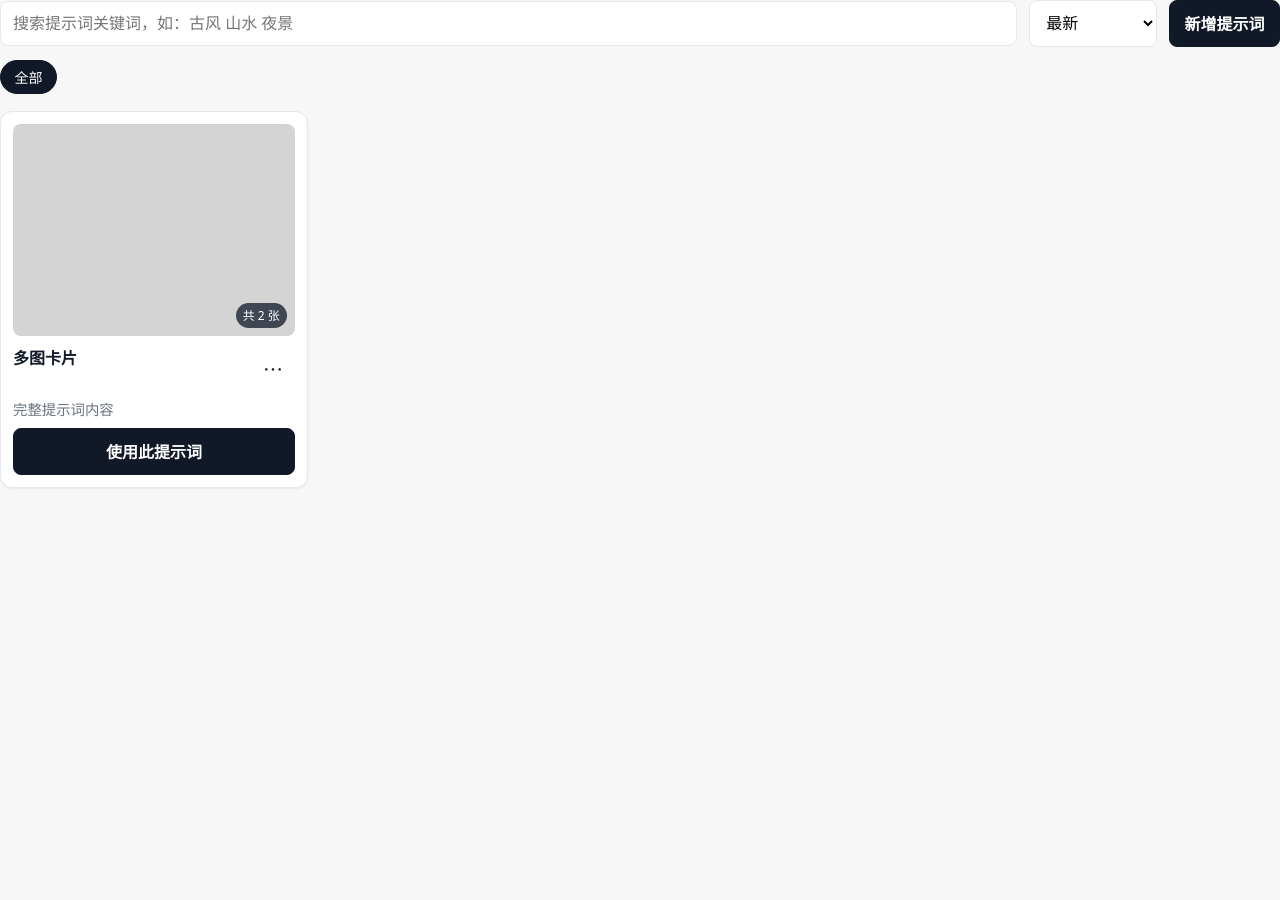
Test: 点击封面打开全屏大图预览
What coordinates should you click on to do the following:
click the button named "预览 多图卡片"
I would click on:
 (154, 230)
Its box is [13,124,295,336].
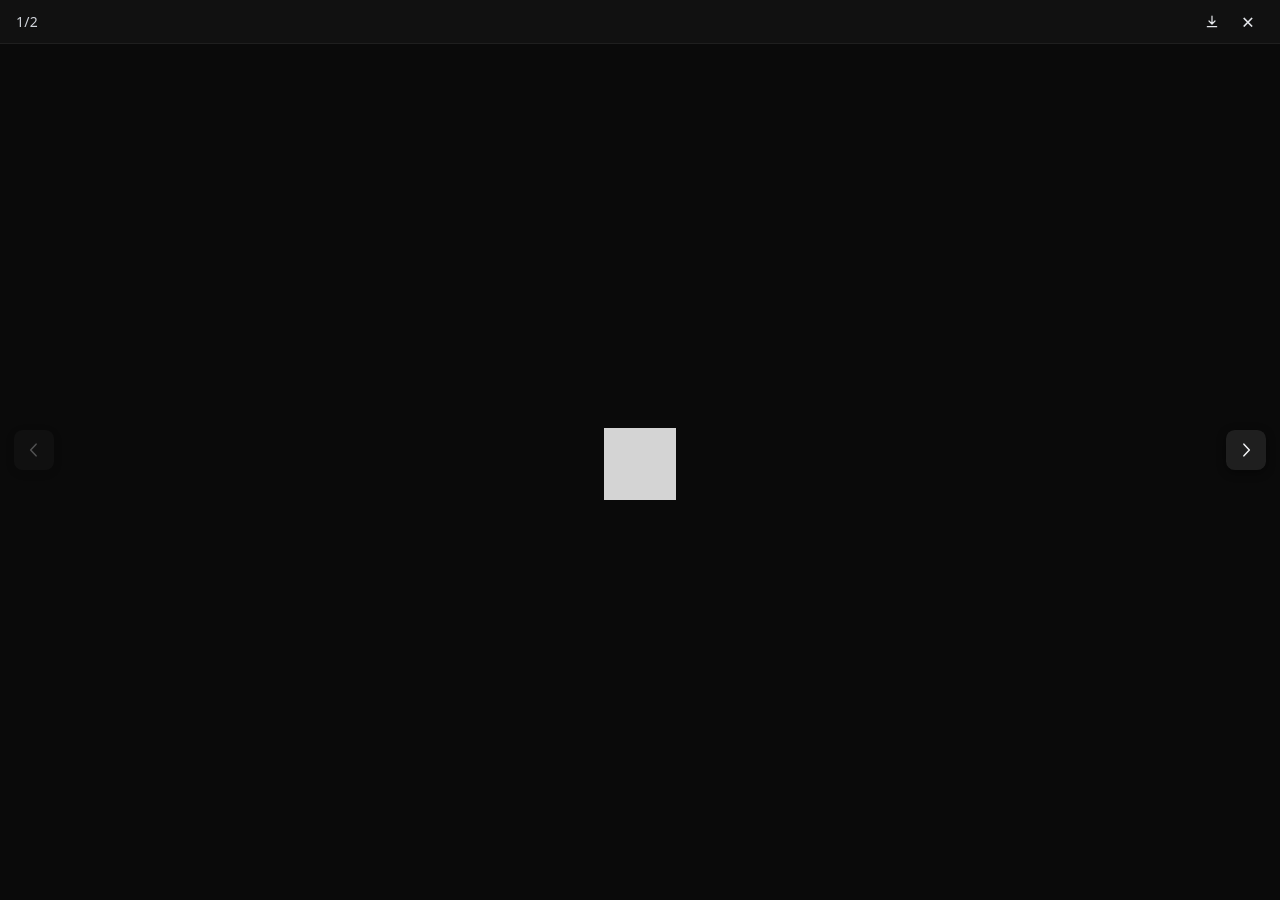
Result: the dialog named "大图预览" is shown
Result: the text "1/2" is shown at [16,12,38,31]
